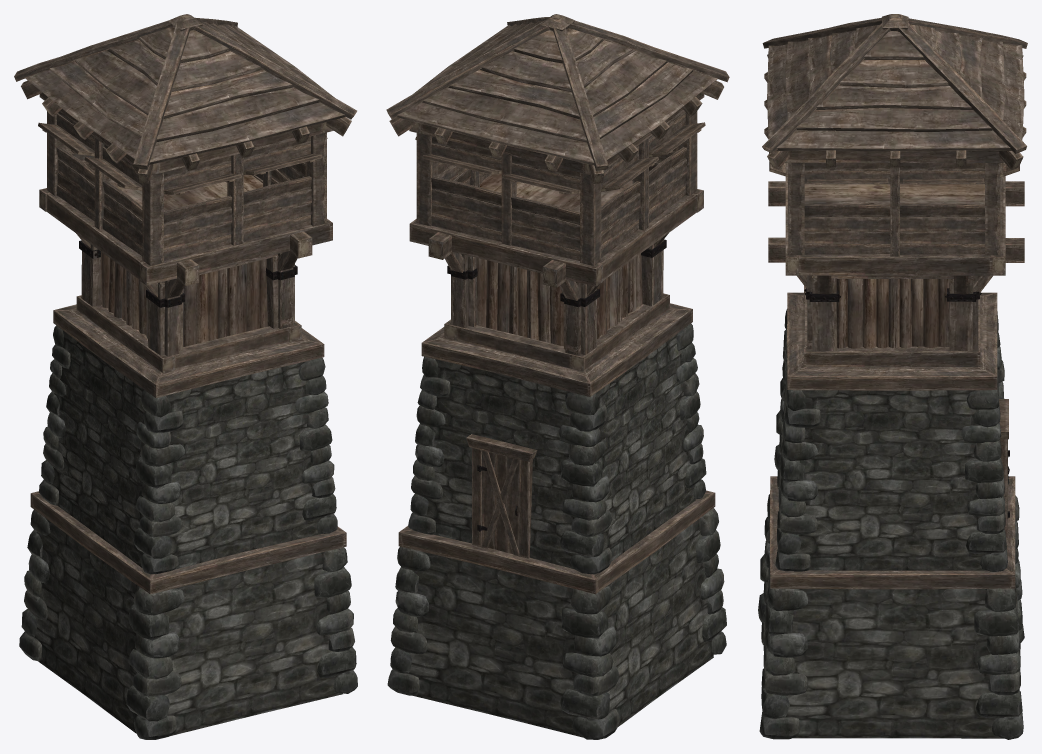
Rendered from jav_struc_def_Stone_t2_tower-transformed.glb.
The picture shows the model from 3 angles, left to right: view 1: azimuth 30°, elevation 25°; view 2: azimuth 150°, elevation 25°; view 3: azimuth 270°, elevation 25°; orthographic projection. The views are drawn at different scales.
Visible parts, largest first — view 1: default; view 2: default; view 3: default.
Boxes of the visible parts, bbox=[...] form: default: bbox=[14, 14, 357, 739]; default: bbox=[386, 14, 729, 739]; default: bbox=[758, 14, 1027, 739].
Size of the model in its own units: 6.05 by 16.92 by 6.17.
Materials: 3 (3 with a texture image).
